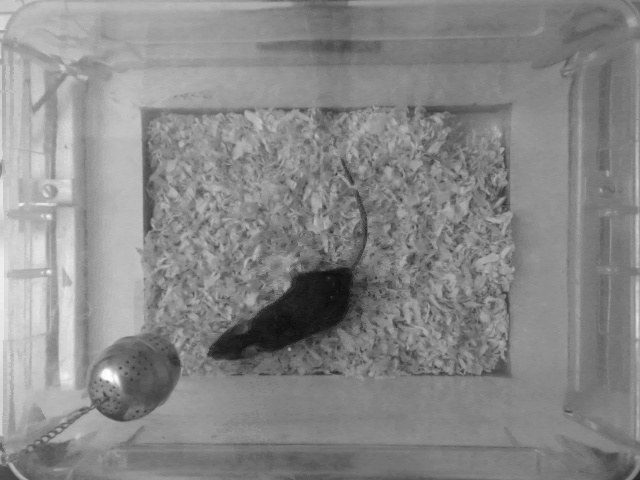mice: (201, 156, 370, 363)
